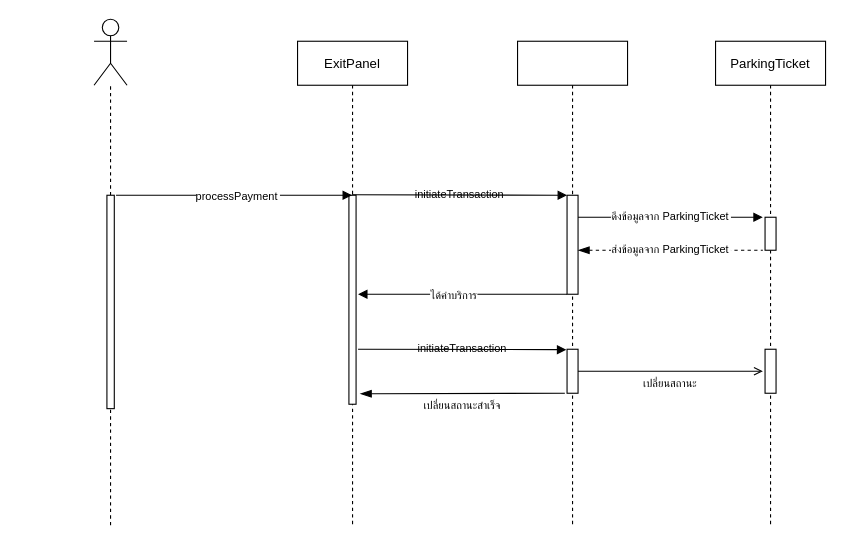
The diagram is 845 pixels wide and 546 high, and some of its shapes have lost their labels. The box of each missing label's shape, as (x1, y1, x2, y2) in pixels:
Parking Attendant: (93, 18, 127, 85)
Payment: (516, 40, 628, 525)
